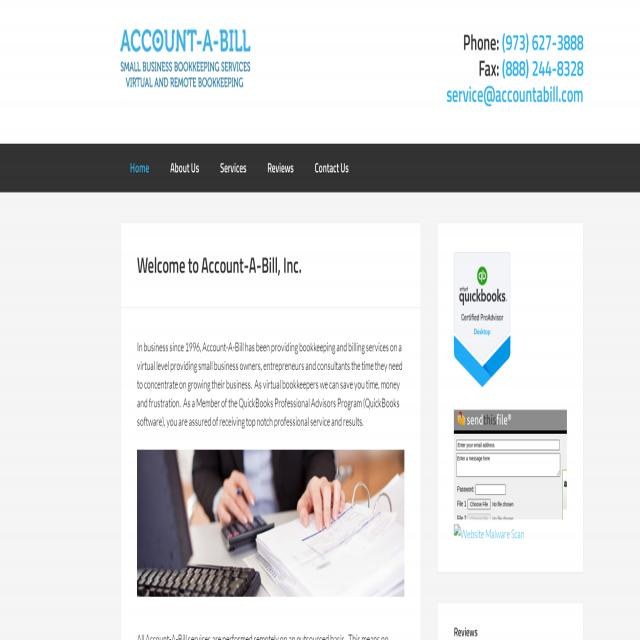button: (108, 15, 263, 106), (307, 154, 358, 186), (163, 152, 206, 186), (259, 153, 301, 185), (213, 153, 252, 185), (123, 152, 156, 185), (468, 500, 490, 510)
field: (457, 454, 560, 477), (457, 438, 559, 449), (476, 484, 505, 495)
